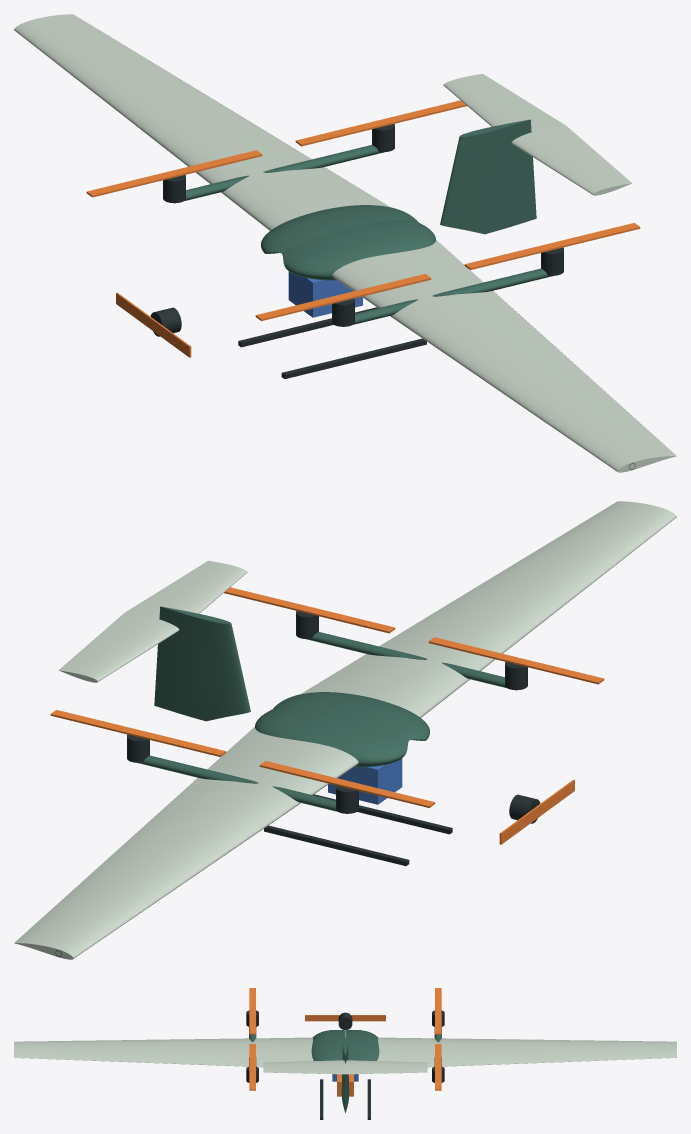
The model's file is surface_tools-03-internal.glb.
3 views of the same model, one above another, from view 1: azimuth 30°, elevation 25°; view 2: azimuth 150°, elevation 25°; view 3: azimuth 270°, elevation 25° (orthographic). The views are drawn at different scales.
Visible parts, largest first — view 1: wing-1, wing1, fin, root_fairing-1, tail-1, root_fairing1, tail1, boom_fairing-1, payload, boom_fairing1, prop_-1_200.0, prop_-1_700.0 (+5 smaller); view 2: wing1, wing-1, fin, root_fairing1, tail1, root_fairing-1, tail-1, boom_fairing1, payload, boom_fairing-1, prop_-1_200.0, prop_1_200.0 (+5 smaller); view 3: wing-1, wing1, tail-1, tail1, root_fairing-1, root_fairing1, cruise_prop, fin, prop_-1_200.0, prop_-1_700.0, prop_1_200.0, prop_1_700.0 (+2 smaller).
Part boxes in pixels (x1,y1,x2,y2): wing-1: (332,240,676,472); wing1: (14,14,390,230); fin: (440,119,536,234); root_fairing-1: (282,219,435,280); tail-1: (511,125,632,195); root_fairing1: (261,205,417,253); tail1: (443,73,565,131); boom_fairing-1: (353,268,552,324); payload: (288,271,362,317); boom_fairing1: (184,145,383,200); prop_-1_200.0: (255,274,431,320); prop_-1_700.0: (464,223,640,269); wing1: (14,727,358,959); wing-1: (300,501,676,717); fin: (154,606,250,721); root_fairing1: (255,706,408,767); tail1: (58,612,179,682); root_fairing-1: (273,692,429,740); tail-1: (125,560,247,618); boom_fairing1: (138,755,337,811); payload: (328,758,402,804); boom_fairing-1: (307,632,506,687); prop_-1_200.0: (428,637,604,684); prop_1_200.0: (259,761,435,807); wing-1: (14,1037,313,1067); wing1: (377,1037,676,1067); tail-1: (263,1060,345,1074); tail1: (345,1060,427,1074); root_fairing-1: (311,1030,345,1060); root_fairing1: (345,1030,379,1060); cruise_prop: (305,1015,385,1021); fin: (341,1037,349,1113); prop_-1_200.0: (249,988,255,1034); prop_-1_700.0: (249,1044,255,1090); prop_1_200.0: (435,988,441,1034); prop_1_700.0: (435,1044,441,1090).
Size of the model in its own units: 989 by 405 by 2500.
